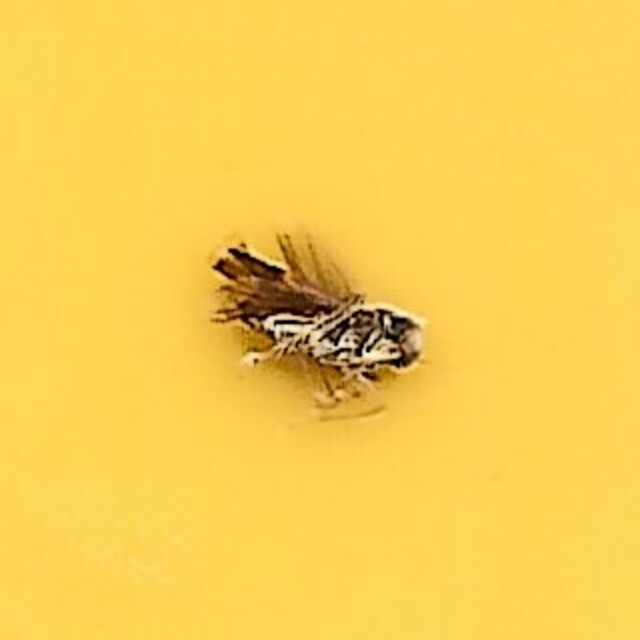Hemiptera: (200, 216, 440, 424)
